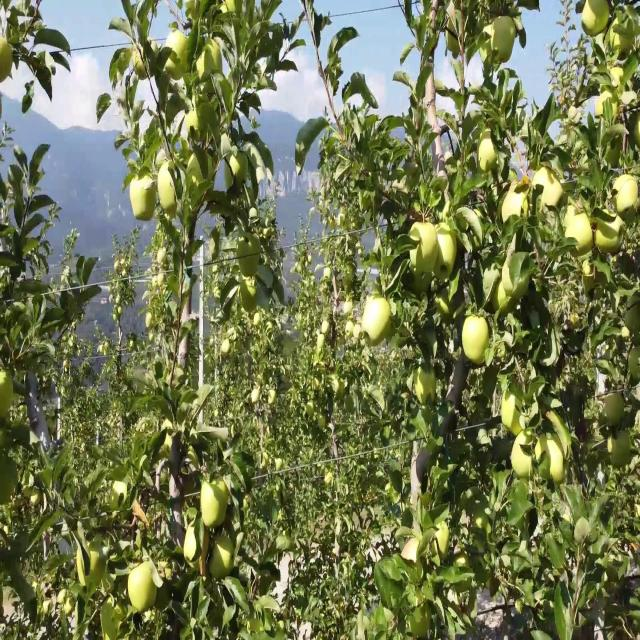apple: (200, 476, 231, 530), (564, 213, 594, 260), (128, 561, 155, 613), (612, 170, 640, 220), (364, 298, 392, 348), (464, 319, 491, 368), (504, 255, 531, 302), (436, 227, 458, 283), (412, 227, 436, 277), (533, 170, 563, 210), (132, 177, 157, 224), (188, 526, 212, 574), (76, 547, 104, 588), (436, 284, 463, 325), (492, 277, 518, 318), (584, 1, 610, 41), (212, 540, 236, 583), (492, 21, 516, 64), (596, 220, 623, 256), (540, 170, 564, 210), (168, 35, 190, 78), (608, 433, 634, 469), (236, 248, 261, 283), (504, 191, 530, 224), (548, 440, 566, 487), (512, 440, 533, 478), (512, 156, 534, 192), (480, 135, 499, 176), (604, 391, 625, 428), (0, 369, 15, 420), (416, 369, 437, 405), (240, 234, 261, 270), (0, 35, 15, 84), (408, 270, 432, 300), (160, 170, 177, 212), (212, 163, 233, 197), (232, 149, 250, 187), (504, 398, 523, 434), (204, 42, 224, 76), (404, 540, 426, 567), (240, 284, 258, 315), (624, 305, 640, 338), (628, 348, 640, 386), (4, 383, 15, 420), (584, 263, 596, 295), (536, 433, 548, 464), (168, 63, 189, 80), (520, 0, 538, 14), (348, 319, 356, 340), (148, 312, 155, 329), (636, 120, 640, 149), (324, 476, 333, 487)
